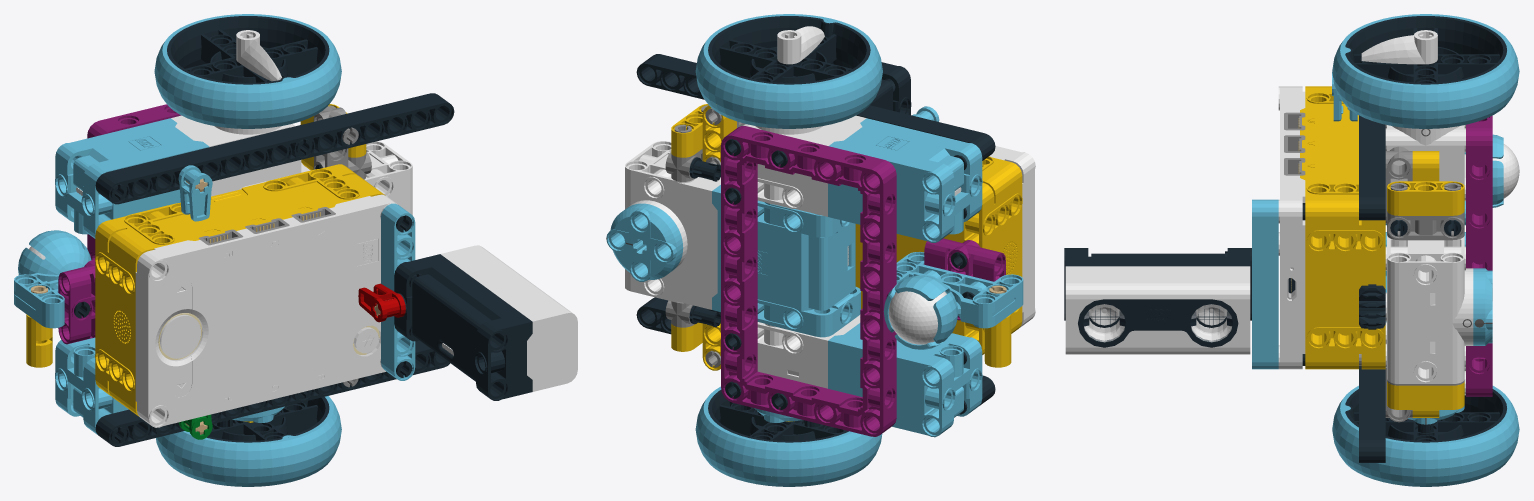
Rendered from lego_45678_driving_base_sonar.glb.
The picture shows the model from 3 angles, left to right: view 1: azimuth 30°, elevation 25°; view 2: azimuth 150°, elevation 25°; view 3: azimuth 270°, elevation 25°; orthographic projection.
Parts seen in each view (by area): view 1: e35, e62, e42, e7, e36, e43, e32, e38, e8, e57, e29, e46 (+6 smaller); view 2: e0, e46, e42, e7, e8, e43, e35, e32, e36, e29, e62, e44 (+10 smaller); view 3: e35, e62, e42, e46, e43, e0, e57, e7, e36, e38, e54, e44 (+7 smaller).
Part boxes in pixels (x1,y1,x2,y2): e35: (95,164,397,427); e62: (394,245,577,400); e42: (154,14,341,128); e7: (55,115,301,238); e36: (95,93,454,204); e43: (156,396,341,486); e32: (14,230,91,328); e38: (95,340,450,446); e8: (55,337,284,434); e57: (381,203,415,380); e29: (58,259,95,344); e46: (301,141,412,214); e0: (721,126,896,436); e46: (606,141,860,337); e42: (695,14,882,128); e7: (743,115,982,242); e8: (754,314,982,437); e43: (695,386,882,486); e35: (855,146,1035,354); e32: (883,252,1023,349); e36: (636,54,995,160); e29: (924,238,1005,320); e62: (870,62,911,114); e44: (777,26,824,64); e35: (1278,86,1385,369); e62: (1064,248,1251,354); e42: (1332,14,1519,128); e46: (1385,201,1492,383); e43: (1332,385,1519,486); e0: (1466,115,1492,396); e57: (1252,199,1278,369); e7: (1385,125,1465,200); e36: (1359,115,1385,220); e38: (1359,366,1385,462); e54: (1387,181,1464,215); e44: (1361,30,1437,64).
Bounding box in the file's own units: 0.1356 × 0.142 × 0.136.
